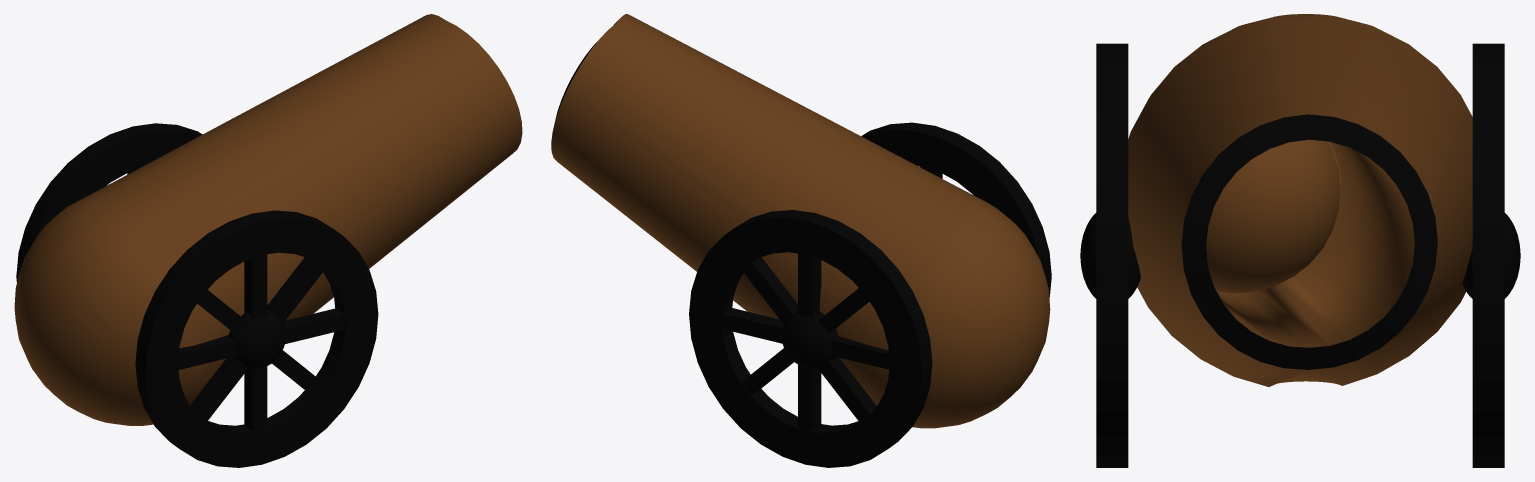
Rendered from Cannon.fbx.
3 views of the same model, side by side, from view 1: azimuth 30°, elevation 25°; view 2: azimuth 150°, elevation 25°; view 3: azimuth 270°, elevation 25° (orthographic). The views are drawn at different scales.
Parts seen in each view (by area): view 1: Sphere, Circle.001, Circle; view 2: Sphere, Circle, Circle.001; view 3: Sphere, Sphere.001, Circle.001, Circle.
Boxes of the visible parts, box(x1,y1,x2,y2) form: Sphere: box(14, 14, 522, 425); Circle.001: box(135, 210, 378, 467); Circle: box(16, 123, 202, 281); Sphere: box(551, 14, 1050, 428); Circle: box(689, 210, 932, 467); Circle.001: box(861, 122, 1051, 297); Sphere: box(1128, 14, 1472, 386); Sphere.001: box(1181, 114, 1437, 369); Circle.001: box(1080, 43, 1140, 467); Circle: box(1462, 43, 1520, 467).
Bounding box in the file's own units: 4.43 × 3.07 × 2.32.
